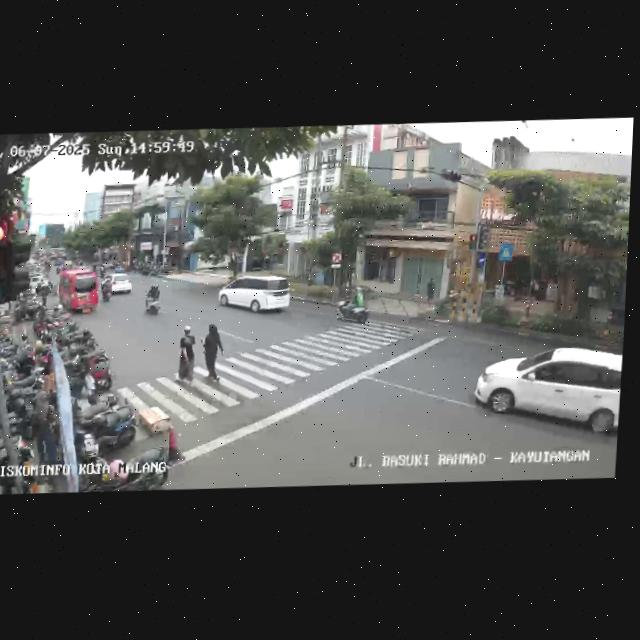car: (469, 341, 623, 448), (217, 272, 293, 320), (55, 265, 100, 315), (101, 270, 134, 299)
motorcycle: (335, 284, 371, 327), (141, 283, 164, 318), (101, 275, 114, 301)
person: (173, 325, 200, 387), (200, 322, 223, 381)
